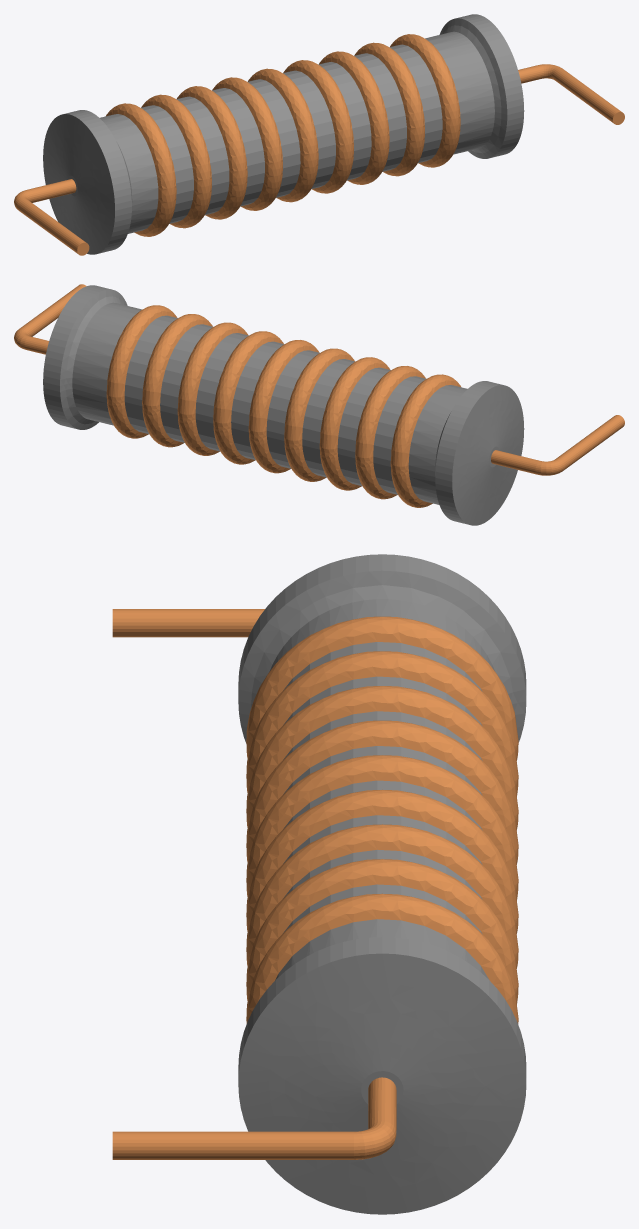
Rendered from L_Axial_L24.0mm_D7.1mm_P30.48mm_Horizontal_Vishay_IM-10-28.glb.
3 renders of one model, top to bottom at view 1: azimuth 30°, elevation 25°; view 2: azimuth 150°, elevation 25°; view 3: azimuth 270°, elevation 25°, orthographic. The views are drawn at different scales.
Parts seen in each view (by area): view 1: Shape_IndexedFaceSet.029, Shape_IndexedFaceSet.005, Shape_IndexedFaceSet.026, Shape_IndexedFaceSet.021, Shape_IndexedFaceSet.013, Shape_IndexedFaceSet.007, Shape_IndexedFaceSet.025, Shape_IndexedFaceSet.017, Shape_IndexedFaceSet.011, Shape_IndexedFaceSet.015, Shape_IndexedFaceSet.023, Shape_IndexedFaceSet.019 (+14 smaller); view 2: Shape_IndexedFaceSet.029, Shape_IndexedFaceSet.005, Shape_IndexedFaceSet.026, Shape_IndexedFaceSet.019, Shape_IndexedFaceSet.015, Shape_IndexedFaceSet.017, Shape_IndexedFaceSet.023, Shape_IndexedFaceSet.011, Shape_IndexedFaceSet.013, Shape_IndexedFaceSet.025, Shape_IndexedFaceSet.021, Shape_IndexedFaceSet.007 (+15 smaller); view 3: Shape_IndexedFaceSet, Shape_IndexedFaceSet.027, Shape_IndexedFaceSet.017, Shape_IndexedFaceSet.023, Shape_IndexedFaceSet.011, Shape_IndexedFaceSet.025, Shape_IndexedFaceSet.013, Shape_IndexedFaceSet.019, Shape_IndexedFaceSet.015, Shape_IndexedFaceSet.021, Shape_IndexedFaceSet.007, Shape_IndexedFaceSet.008 (+15 smaller).
Boxes of the visible parts, x1,y1,x2,y2 form: Shape_IndexedFaceSet.029: [43, 114, 114, 254]; Shape_IndexedFaceSet.005: [425, 31, 494, 154]; Shape_IndexedFaceSet.026: [100, 114, 158, 233]; Shape_IndexedFaceSet.021: [177, 86, 247, 219]; Shape_IndexedFaceSet.013: [319, 51, 389, 184]; Shape_IndexedFaceSet.007: [390, 34, 460, 167]; Shape_IndexedFaceSet.025: [106, 103, 176, 236]; Shape_IndexedFaceSet.017: [248, 68, 318, 202]; Shape_IndexedFaceSet.011: [354, 42, 424, 176]; Shape_IndexedFaceSet.015: [283, 60, 353, 193]; Shape_IndexedFaceSet.023: [141, 94, 211, 228]; Shape_IndexedFaceSet.019: [212, 77, 282, 210]; Shape_IndexedFaceSet.029: [452, 385, 524, 525]; Shape_IndexedFaceSet.005: [72, 302, 141, 425]; Shape_IndexedFaceSet.026: [408, 385, 467, 504]; Shape_IndexedFaceSet.019: [284, 348, 354, 481]; Shape_IndexedFaceSet.015: [213, 331, 283, 464]; Shape_IndexedFaceSet.017: [248, 340, 319, 473]; Shape_IndexedFaceSet.023: [355, 366, 425, 499]; Shape_IndexedFaceSet.011: [142, 314, 212, 447]; Shape_IndexedFaceSet.013: [177, 322, 247, 455]; Shape_IndexedFaceSet.025: [390, 374, 460, 507]; Shape_IndexedFaceSet.021: [319, 357, 390, 490]; Shape_IndexedFaceSet.007: [106, 305, 177, 438]; Shape_IndexedFaceSet: [238, 953, 526, 1214]; Shape_IndexedFaceSet.027: [238, 570, 526, 742]; Shape_IndexedFaceSet.017: [246, 755, 518, 900]; Shape_IndexedFaceSet.023: [246, 651, 518, 796]; Shape_IndexedFaceSet.011: [246, 859, 518, 1004]; Shape_IndexedFaceSet.025: [246, 616, 518, 760]; Shape_IndexedFaceSet.013: [246, 824, 518, 968]; Shape_IndexedFaceSet.019: [246, 720, 518, 864]; Shape_IndexedFaceSet.015: [246, 789, 518, 933]; Shape_IndexedFaceSet.021: [246, 686, 518, 830]; Shape_IndexedFaceSet.007: [246, 893, 518, 1023]; Shape_IndexedFaceSet.008: [112, 1131, 353, 1159].
Size of the model in its own units: 12.27 by 2.8 by 4.02.
